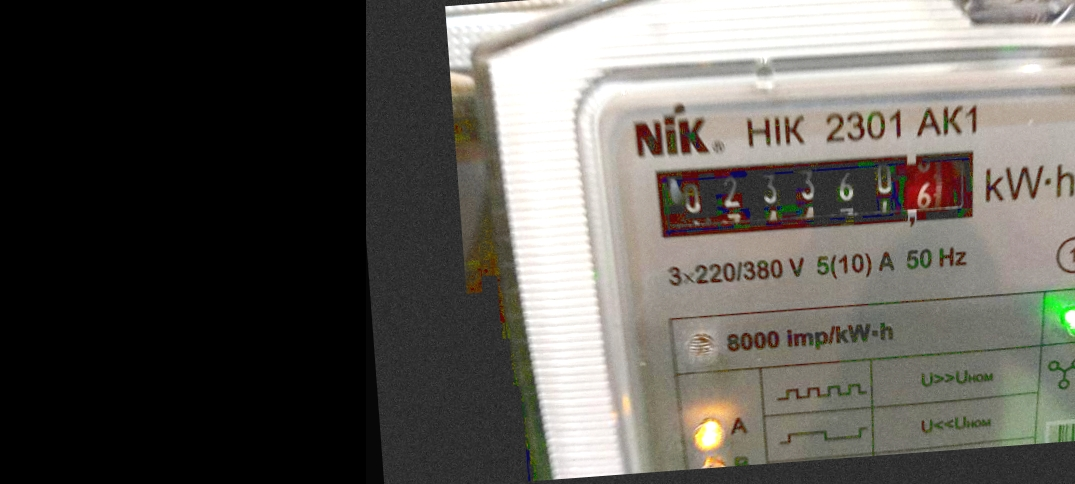0: (679, 178, 704, 214), (872, 160, 896, 196)
2: (719, 173, 743, 210)
3: (758, 170, 781, 207), (797, 167, 817, 202)
6: (834, 167, 856, 202), (913, 176, 933, 210)
screen: (641, 133, 998, 258)
